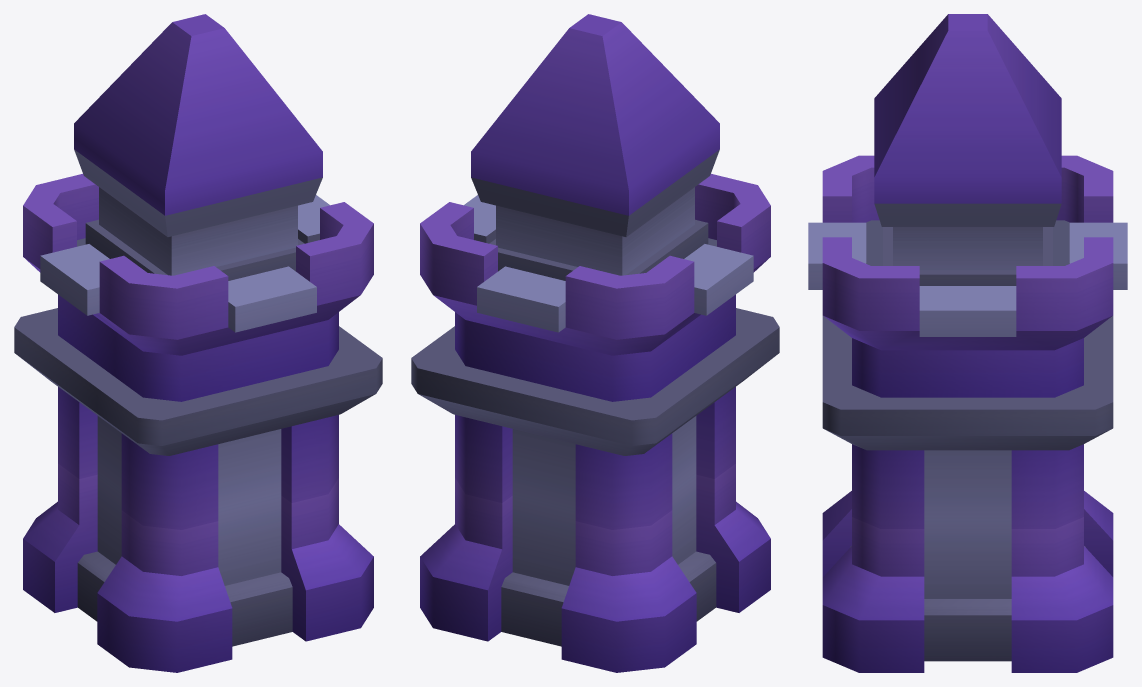
Rendered from tower-1-4.glb.
3 renders of one model, left to right at view 1: azimuth 30°, elevation 25°; view 2: azimuth 150°, elevation 25°; view 3: azimuth 270°, elevation 25°, orthographic. The views are drawn at different scales.
Parts seen in each view (by area): view 1: tower:1-4; view 2: tower:1-4; view 3: tower:1-4.
Boxes of the visible parts, box(x1,y1,x2,y2) form: tower:1-4: box(14, 14, 382, 672); tower:1-4: box(411, 14, 779, 672); tower:1-4: box(808, 14, 1127, 672).
Bounding box in the file's own units: 1.67 × 3.4 × 1.67.
1 material, 1 textured.
